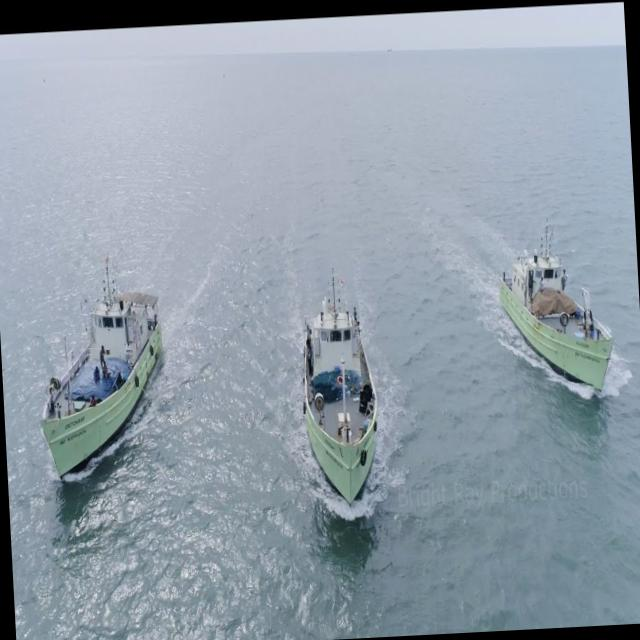boat: (22, 240, 178, 520), (490, 208, 630, 439), (292, 250, 385, 530)
